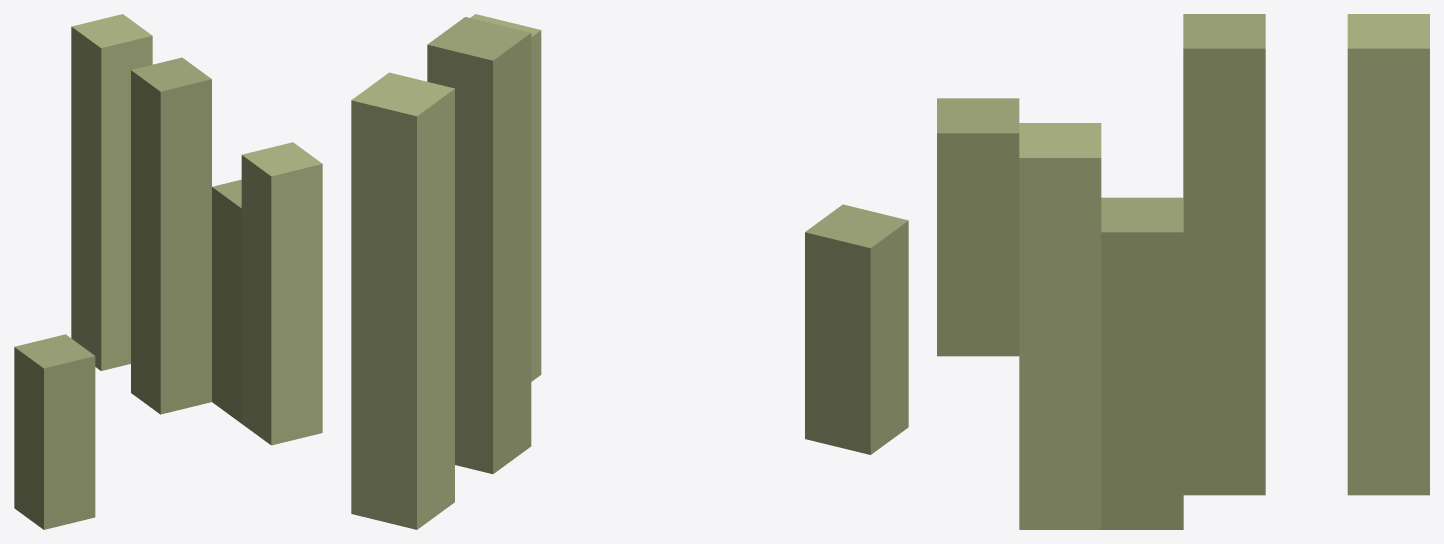
Rendered from juncos_de_playa_01.glb.
3 renders of one model, left to right at view 1: azimuth 30°, elevation 25°; view 2: azimuth 150°, elevation 25°; view 3: azimuth 270°, elevation 25°, orthographic. The views are drawn at different scales.
Parts seen in each view (by area): view 1: juncos_de_playa_01; view 2: juncos_de_playa_01; view 3: juncos_de_playa_01.
Part boxes in pixels (bbox=[...]): juncos_de_playa_01: bbox=[14, 14, 322, 529]; juncos_de_playa_01: bbox=[351, 14, 908, 529]; juncos_de_playa_01: bbox=[937, 14, 1429, 529].
Bounding box in the file's own units: 0.6 × 0.6 × 0.6.
